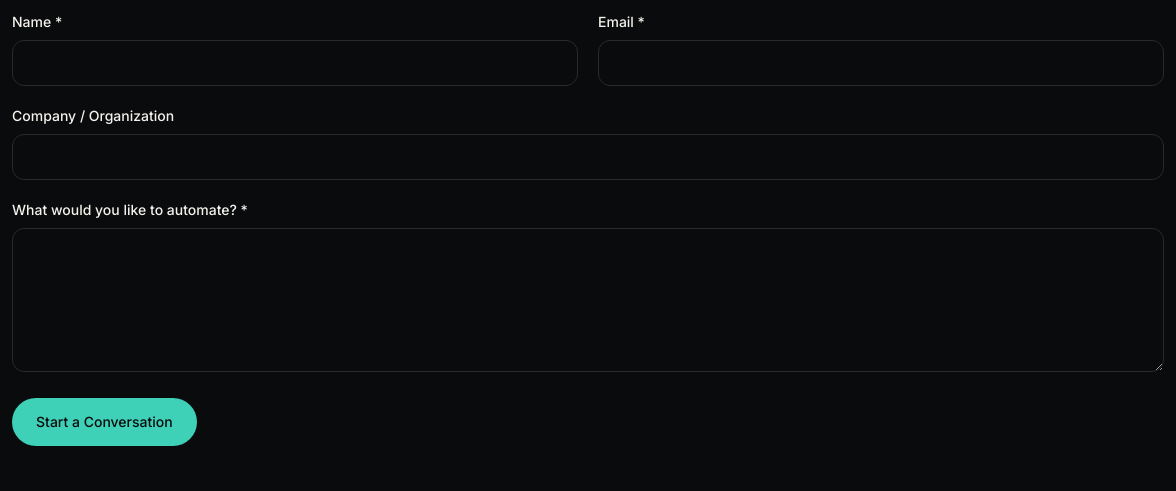
Test: ContactForm › shows an email format error for a malformed address
Type "Jordan Smith" into the field labelled "Name *" at point(295, 63), box [12,40,578,86]
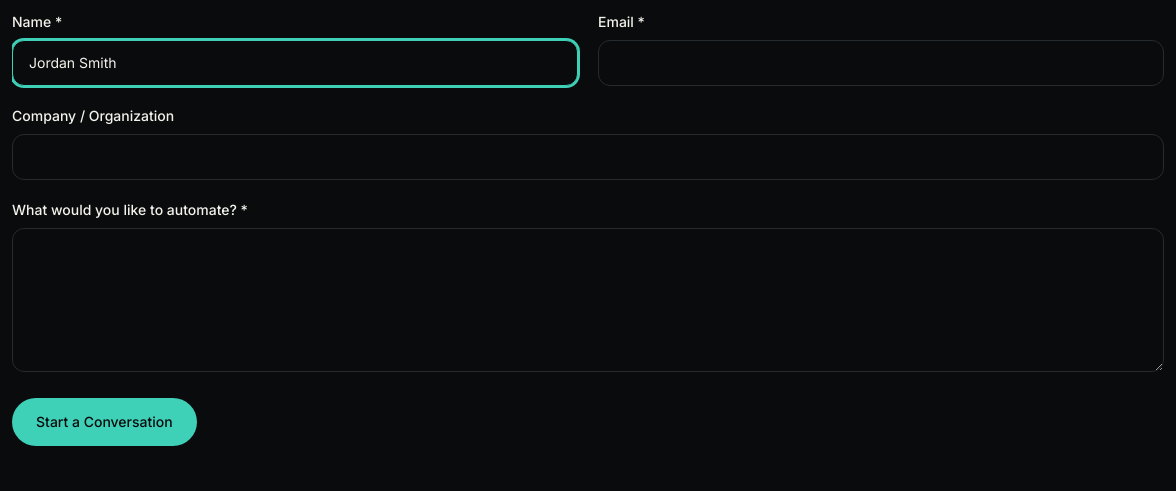
Type "not-an-email" into the field labelled "Email *" at point(881, 63), box [598,40,1164,86]
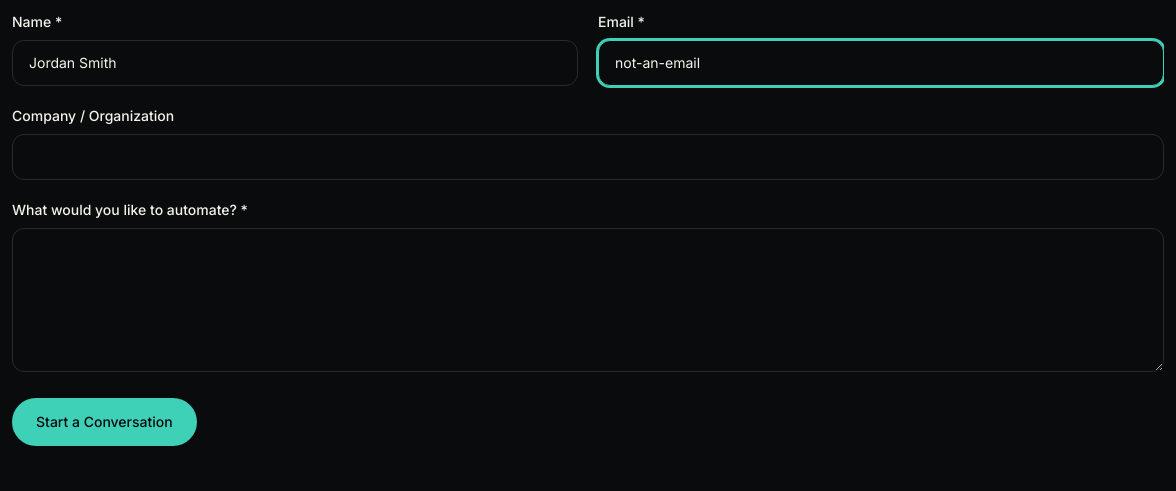
Type "We need help automating our lead routing workflow end to end." into the text box labelled "What would you like to automate? *" at point(588, 300), box [12,228,1164,372]
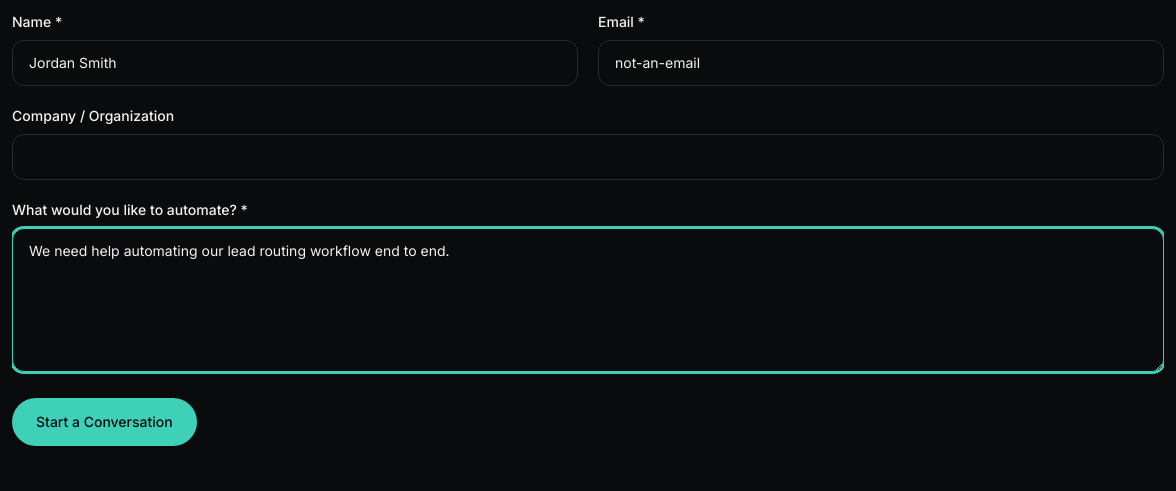
Click the button "Start a Conversation" at point(104, 422), box [12,398,197,446]
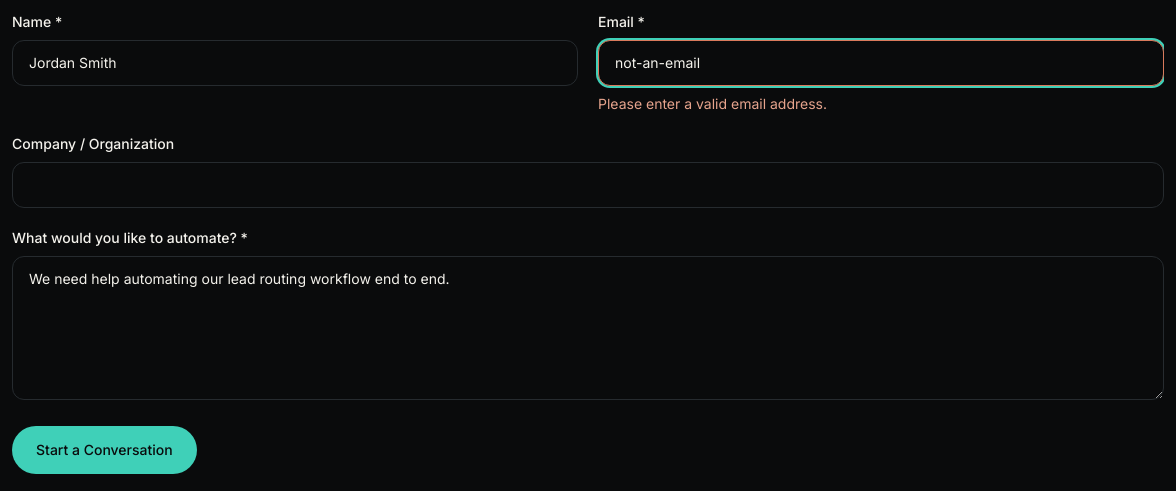
Now the text "Please enter a valid email address." is shown, box [598,95,827,112]
